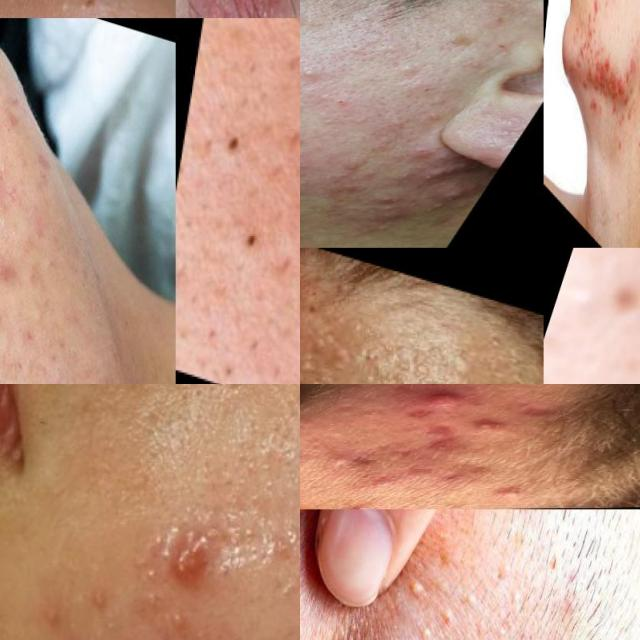acne_scars: (402, 419, 482, 454), (595, 43, 619, 113)
comedone: (194, 179, 298, 299), (216, 93, 270, 195), (372, 53, 426, 83), (302, 110, 357, 139), (318, 452, 364, 469), (309, 426, 366, 439), (318, 394, 367, 408), (300, 65, 327, 87), (327, 407, 362, 416)
crystanlline: (165, 525, 237, 602)
cystic: (414, 386, 471, 410)
flat_wart: (300, 247, 375, 373), (436, 566, 489, 620)
folliculitis: (175, 0, 252, 18)
milium: (399, 566, 434, 610), (342, 620, 381, 640), (37, 0, 79, 18), (436, 629, 461, 640)
papule: (362, 211, 421, 231), (438, 184, 473, 212), (357, 474, 410, 491), (577, 10, 594, 62), (496, 485, 540, 498), (615, 68, 628, 110), (589, 0, 600, 23)
pustule: (468, 419, 508, 432)
